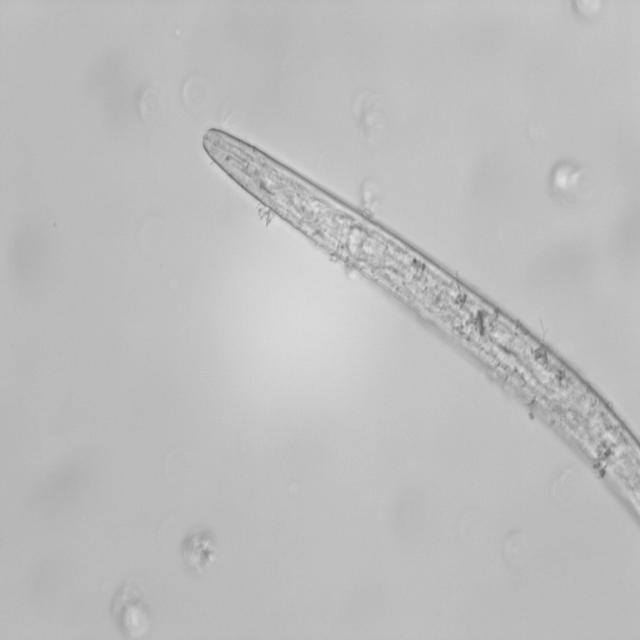Meloidogyne: (196, 124, 640, 538)
